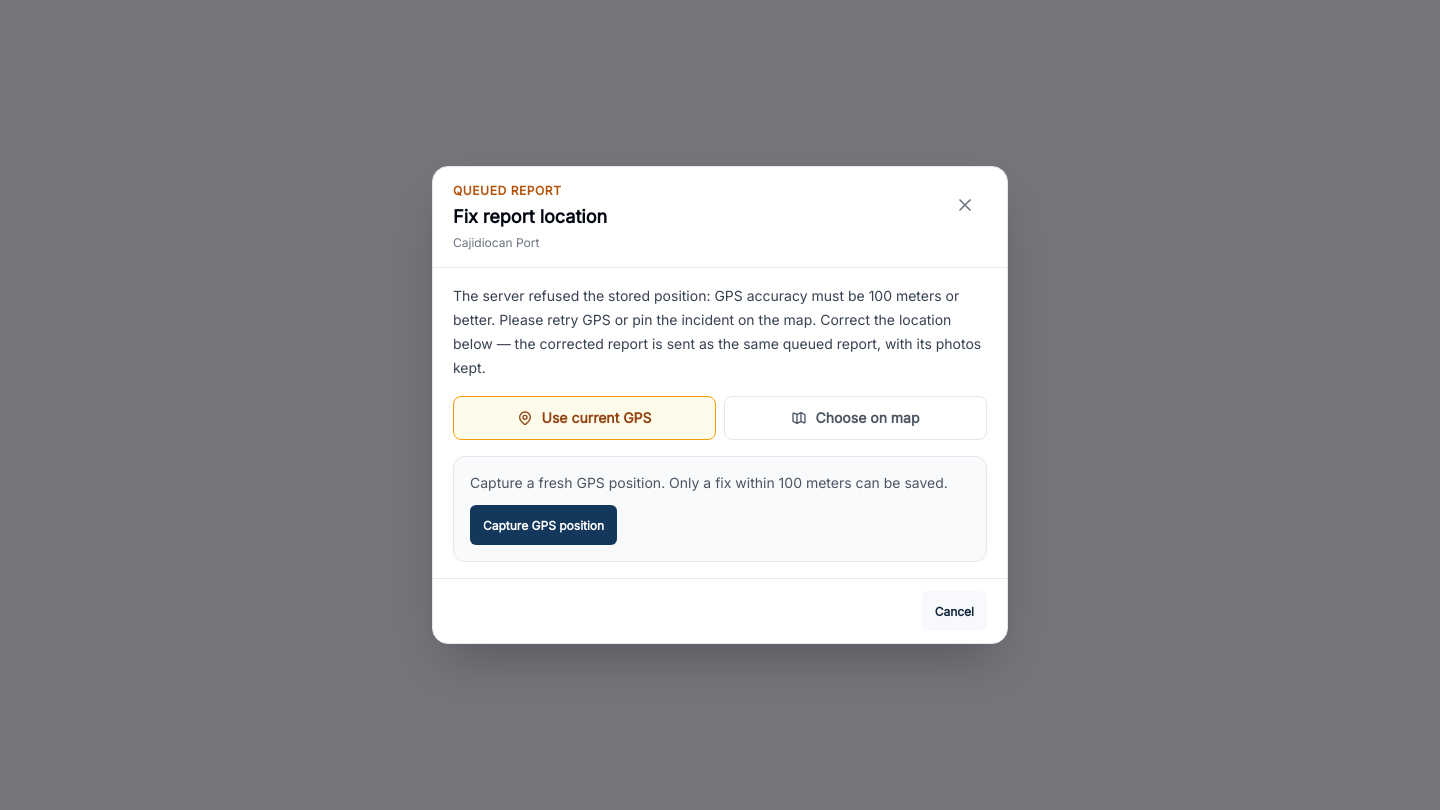
Test case: QueuedReportLocationFix › explains a denied permission without touching the queue
Click the button "Capture GPS position".
click(544, 525)  # box [470,505,617,545]
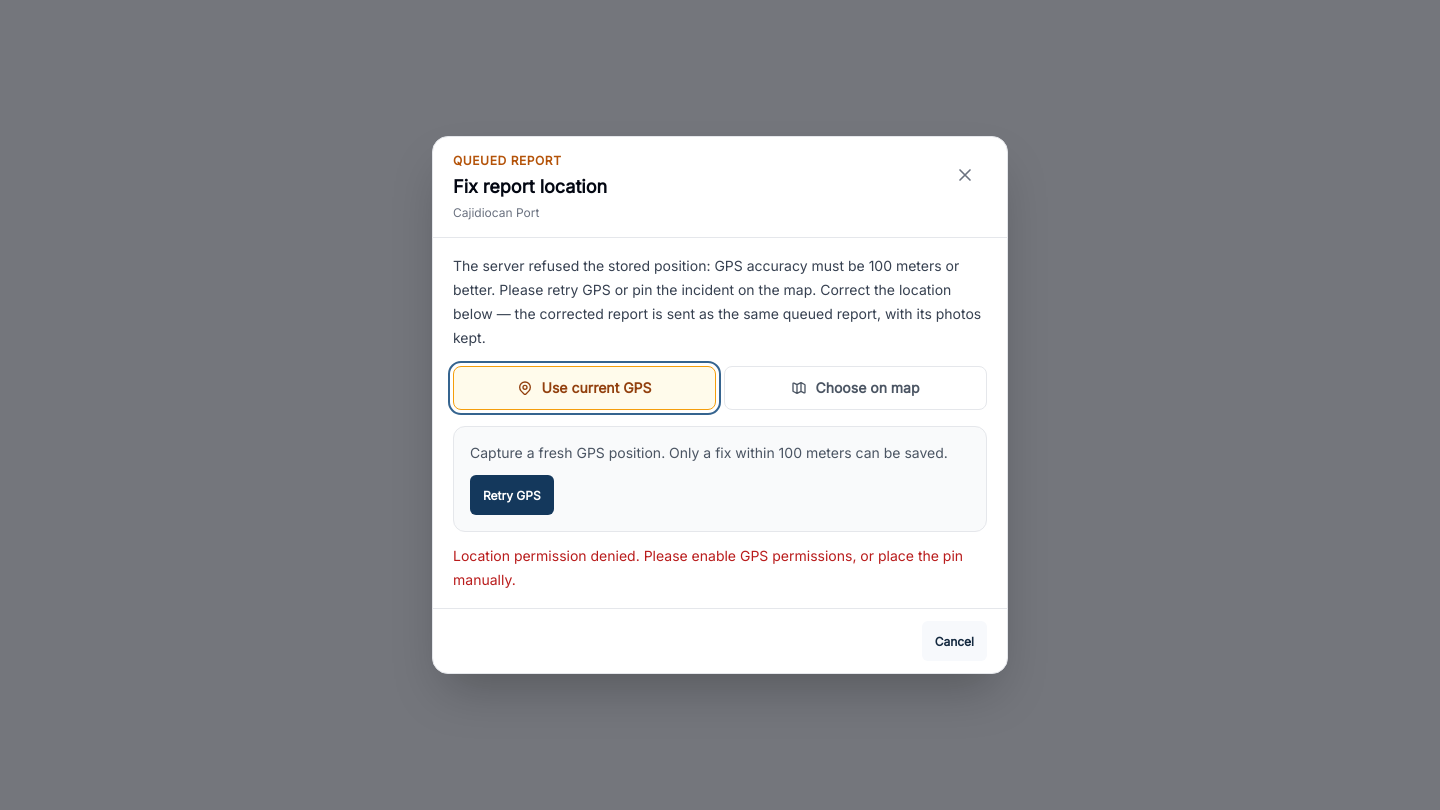
Expected: the message shows "permission denied", [453,547,963,588]
